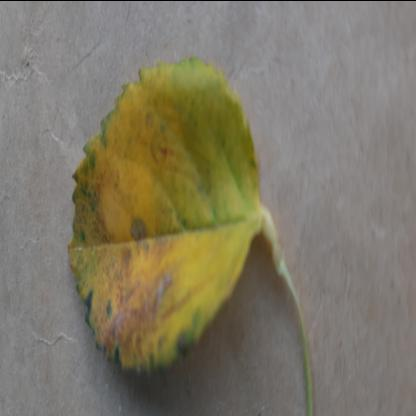black-spot: (68, 51, 264, 386)
